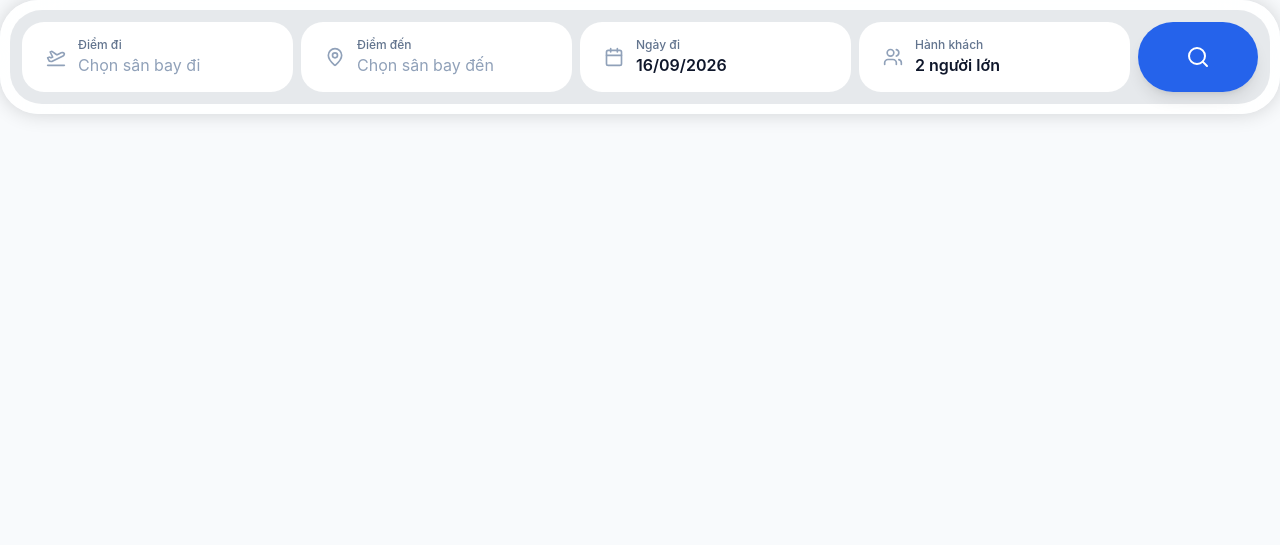
Test: LandingSearchSheet › flights: airports › a typed city, code or label that matches a current airport becomes its label
Type "ha noi" into the dropdown labelled "Điểm đi" at x=174, y=65, box [78,53,269,77]
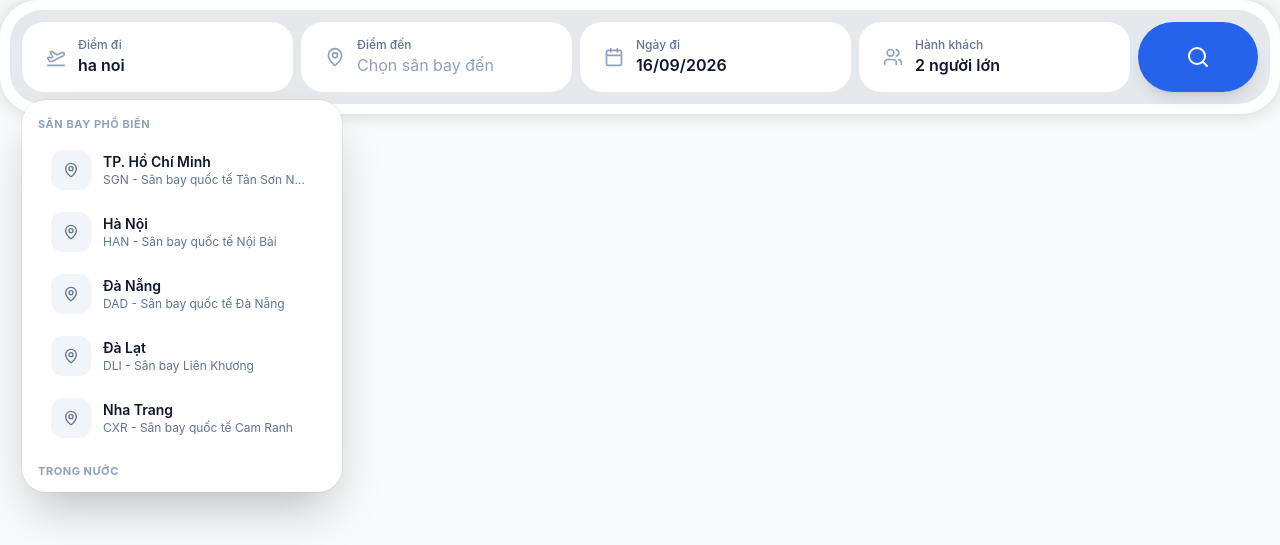
Leave the dropdown labelled "Điểm đi", box [78,53,269,77]
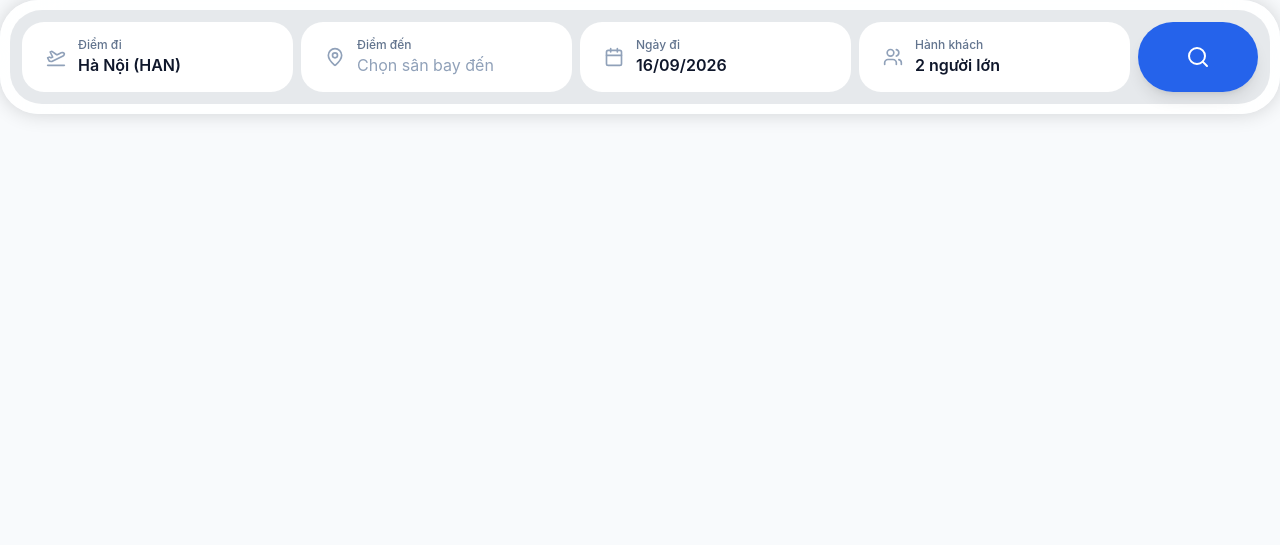
Expected: the dropdown labelled "Điểm đi" holds "Hà Nội (HAN)", [78,53,269,77]
Type "sgn" into the dropdown labelled "Điểm đến" at x=452, y=65, box [357,53,548,77]
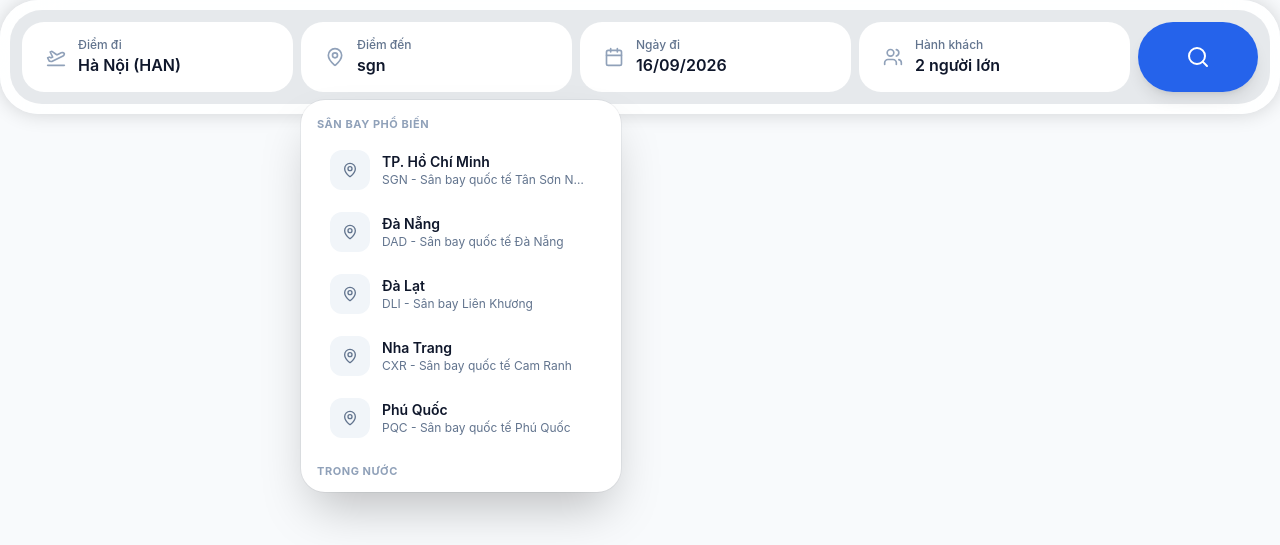
Leave the dropdown labelled "Điểm đến", box [357,53,548,77]
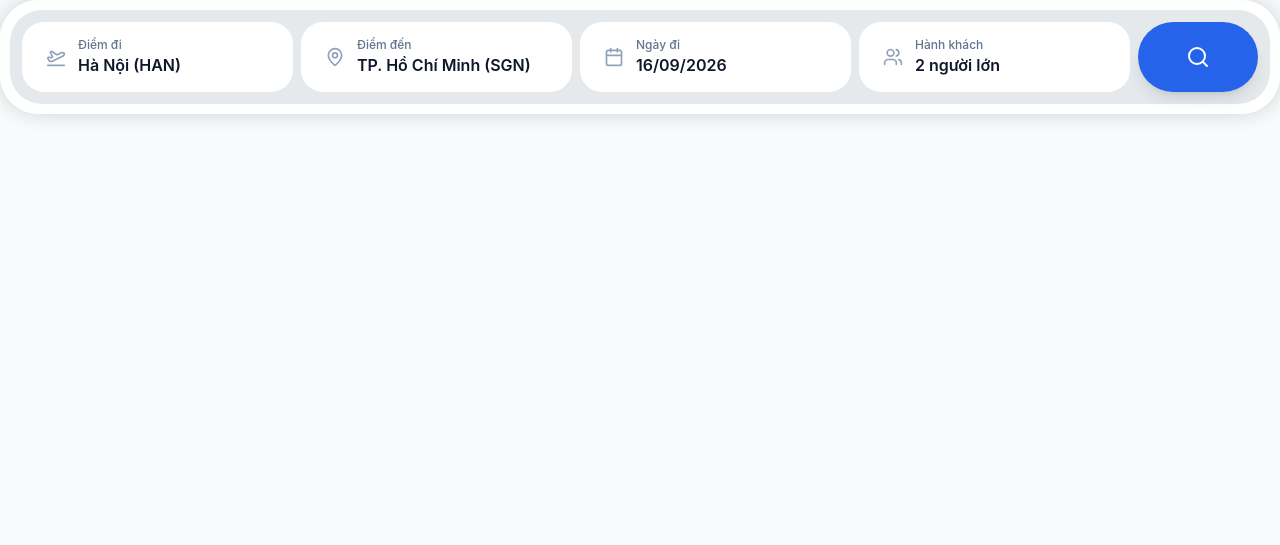
Expected: the dropdown labelled "Điểm đến" holds "TP. Hồ Chí Minh (SGN)", [357,53,548,77]
